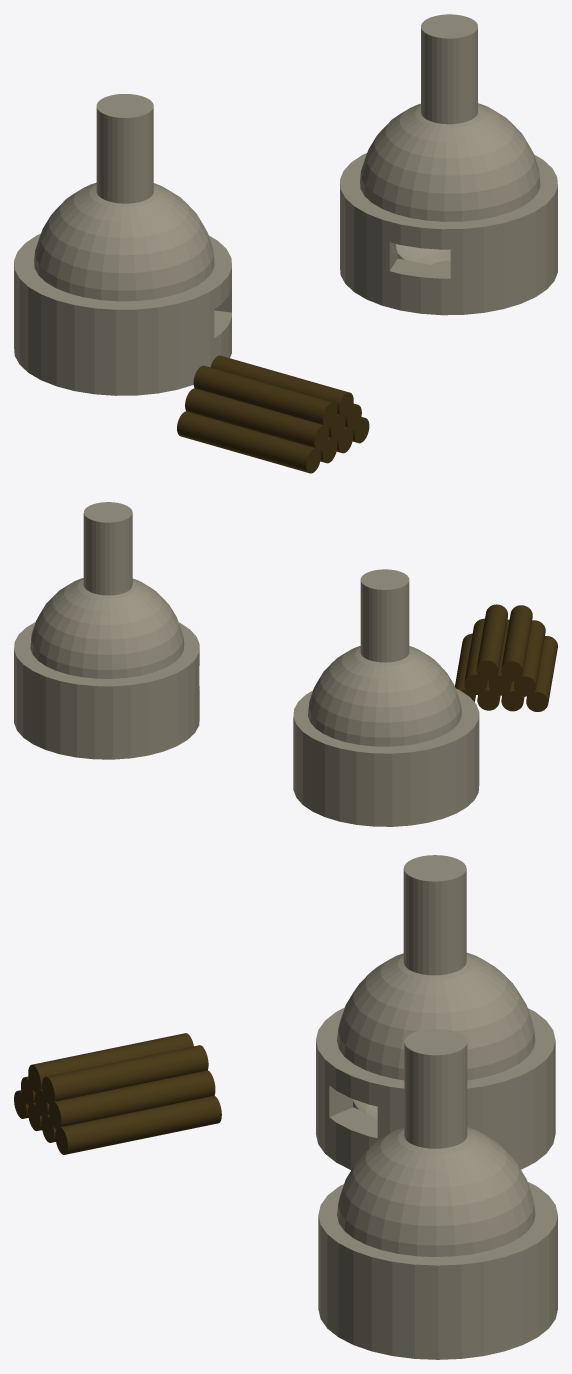
File: Kiln.fbx
The picture shows the model from 3 angles, top to bottom: view 1: azimuth 30°, elevation 25°; view 2: azimuth 150°, elevation 25°; view 3: azimuth 270°, elevation 25°; orthographic projection. The views are drawn at different scales.
Visible parts, largest first — view 1: Kilns, Wood; view 2: Kilns, Wood; view 3: Kilns, Wood.
Boxes of the visible parts, x1,y1,x2,y2 form: Kilns: (14,14,557,395); Wood: (177,355,369,473); Kilns: (14,502,479,826); Wood: (455,604,557,711); Kilns: (316,855,557,1359); Wood: (14,1033,221,1154).
Size of the model in its own units: 213 by 97.26 by 178.
